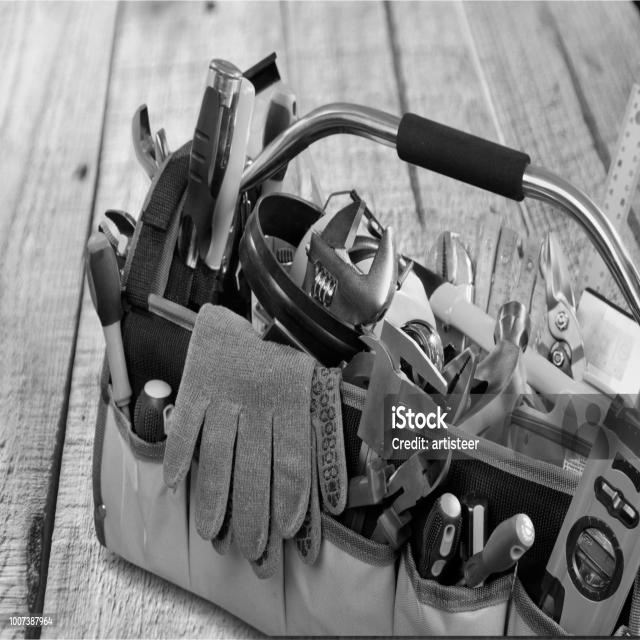golves: (153, 295, 352, 585)
hammer: (453, 296, 530, 446)
level: (537, 387, 640, 634)
pliers: (335, 432, 451, 550), (533, 228, 591, 380), (100, 193, 141, 268), (437, 351, 477, 425)
ruler: (568, 69, 640, 315)
screwdriver: (75, 223, 174, 451), (167, 47, 247, 313), (410, 487, 545, 605), (255, 76, 302, 201)
vernier_caliper: (350, 316, 458, 477)
wrench: (297, 191, 399, 341), (423, 222, 482, 376), (127, 91, 178, 208)
